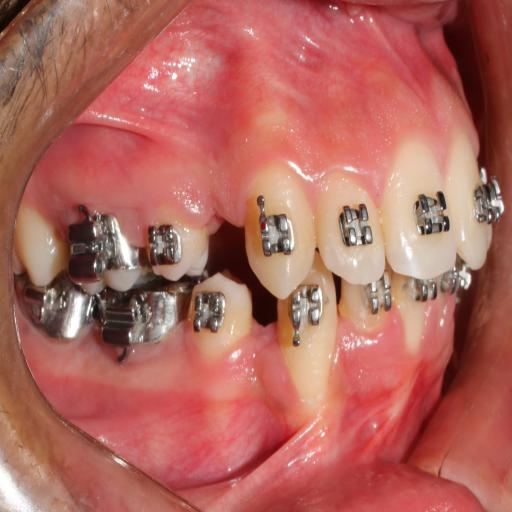correct_brace: (145, 204, 213, 288), (186, 274, 252, 352), (253, 212, 300, 262), (410, 187, 452, 238), (338, 202, 372, 253), (191, 290, 227, 330)
incorrect_brace: (317, 174, 383, 290), (146, 218, 183, 268)
